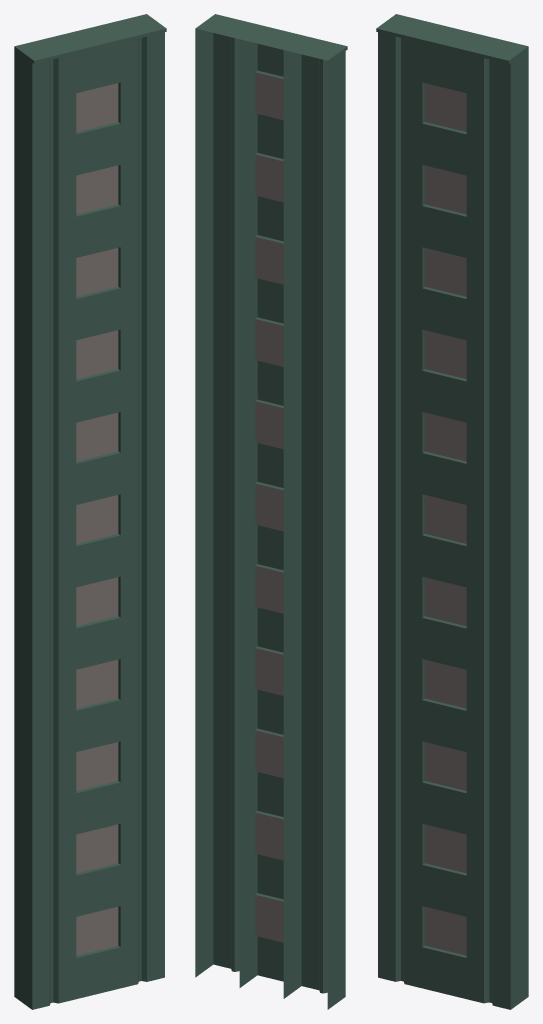
3 renders of one model, left to right at view 1: azimuth 30°, elevation 25°; view 2: azimuth 150°, elevation 25°; view 3: azimuth 330°, elevation 25°, orthographic.
Parts seen in each view (by area): view 1: Column.029; view 2: Column.029; view 3: Column.029.
Part boxes in pixels (x1,y1,x2,y2): Column.029: (14,14,166,1009); Column.029: (195,14,347,1009); Column.029: (376,14,528,1009).
Bounding box in the file's own units: 835 × 5726 × 217.
